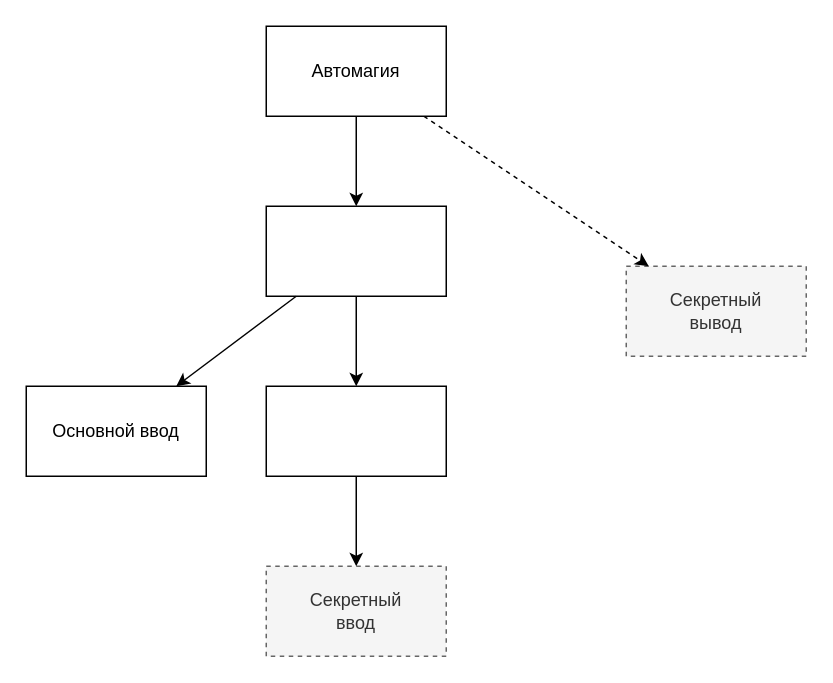
Image size: 833x683. Some labels were removed from this diagram. Here are the shapes that lost their labels. From the top down, the box of each, then its label:
(265, 205, 446, 296): Управляющий модуль
(265, 385, 446, 476): Трансформация
